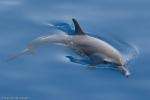fish: (5, 17, 133, 76)
